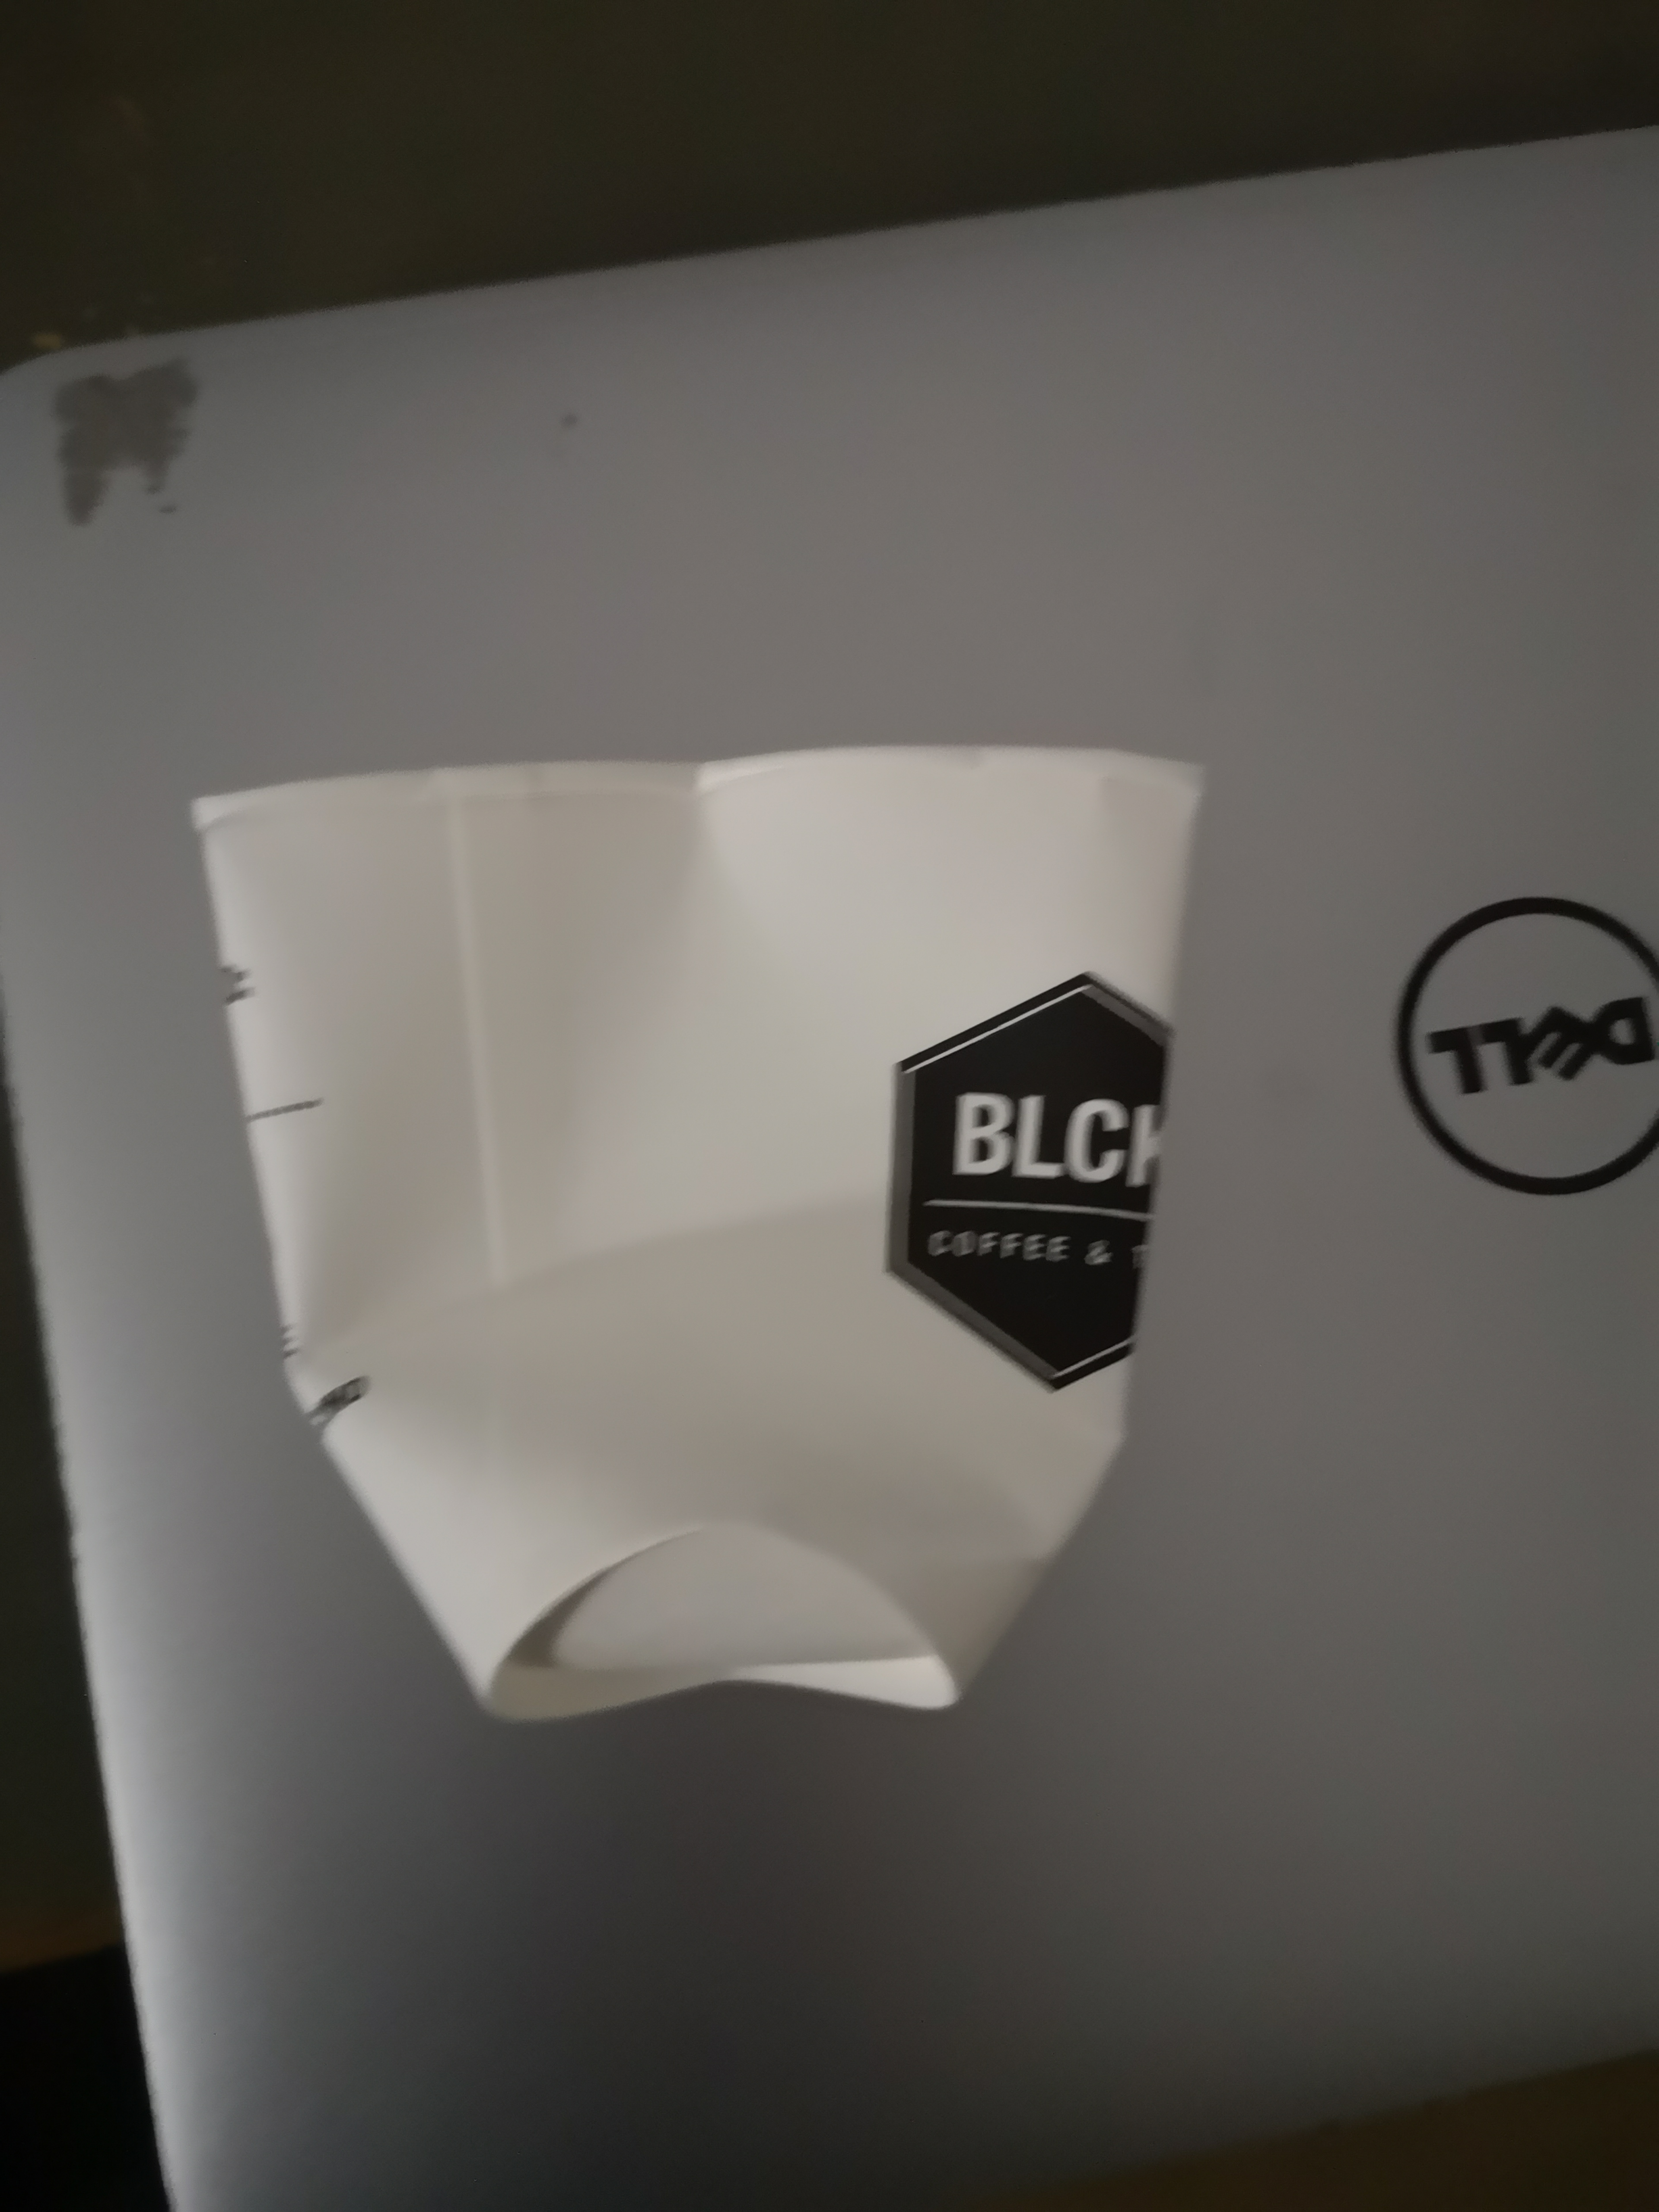cup: (174, 702, 1230, 1754)
